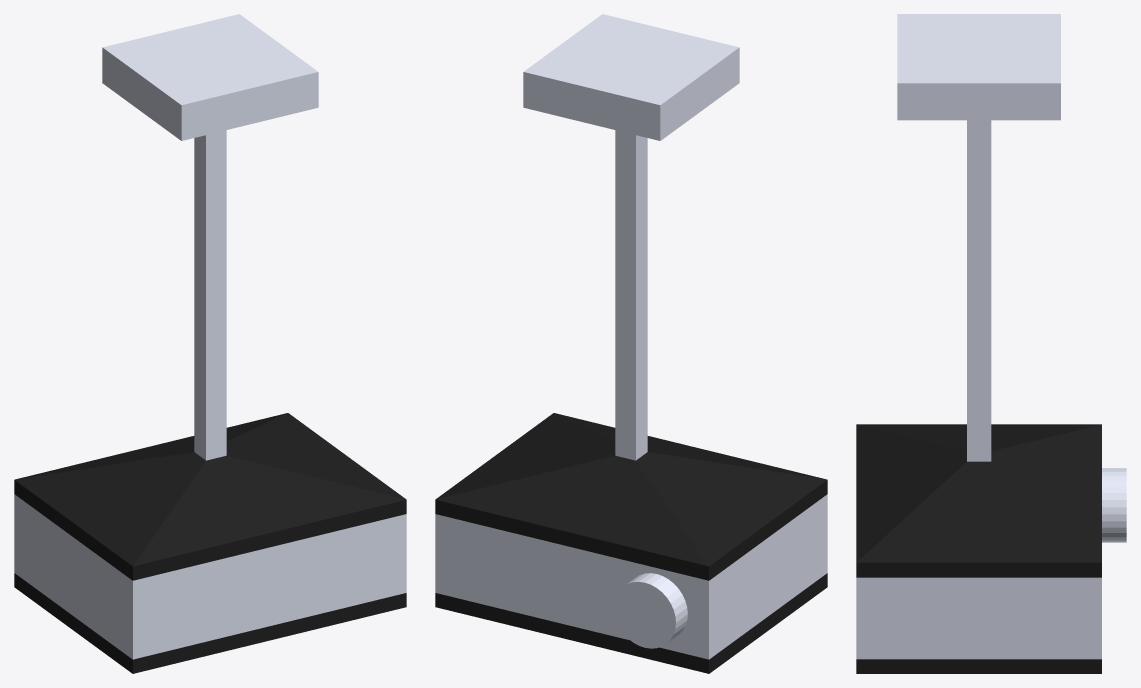
The model's file is beamer__jeroverv.glb.
The picture shows the model from 3 angles, left to right: view 1: azimuth 30°, elevation 25°; view 2: azimuth 150°, elevation 25°; view 3: azimuth 270°, elevation 25°; orthographic projection. The views are drawn at different scales.
Visible parts, largest first — view 1: Cube; view 2: Cube; view 3: Cube.
Part boxes in pixels (<box>): Cube: <box>14,14,406,673</box>; Cube: <box>435,14,827,673</box>; Cube: <box>856,14,1126,673</box>.
Bounding box in the file's own units: 0.4 × 0.75 × 0.33.
